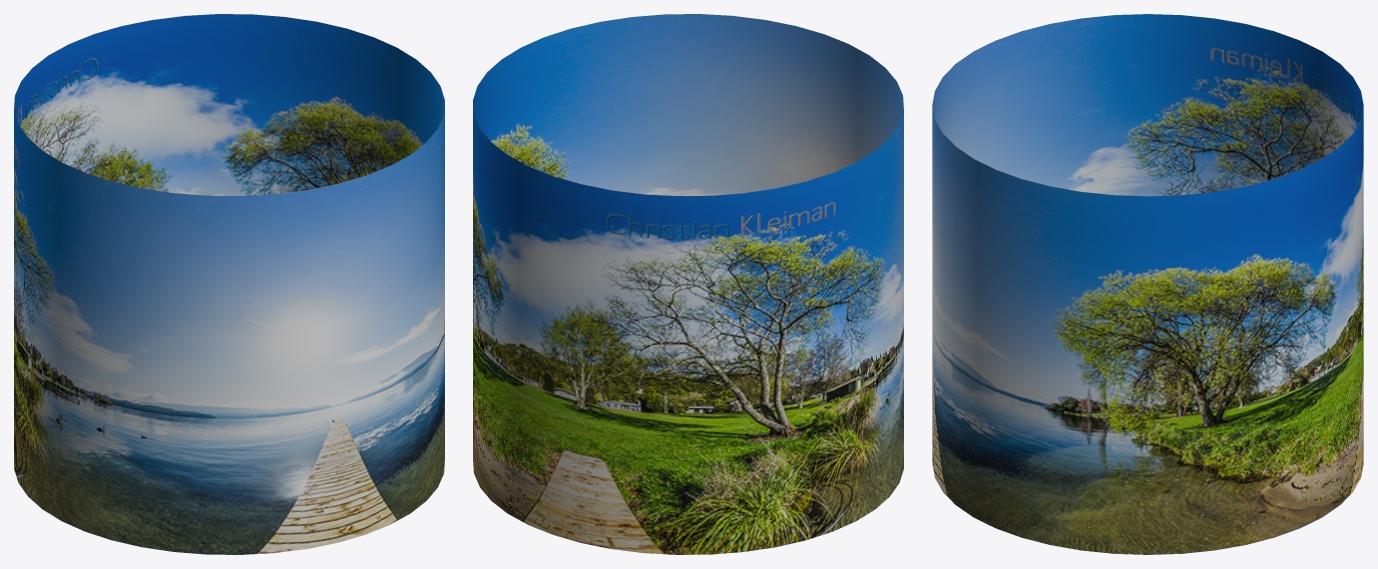
The model's file is Cilindro.fbx.
3 renders of one model, left to right at view 1: azimuth 30°, elevation 25°; view 2: azimuth 150°, elevation 25°; view 3: azimuth 270°, elevation 25°, orthographic.
Parts seen in each view (by area): view 1: Cylinder001; view 2: Cylinder001; view 3: Cylinder001.
Boxes of the visible parts, x1=… form: Cylinder001: x1=14, y1=14, x2=444, y2=554; Cylinder001: x1=473, y1=14, x2=903, y2=554; Cylinder001: x1=932, y1=14, x2=1363, y2=554.
Bounding box in the file's own units: 118 × 118 × 108.
Materials: 1 (1 with a texture image).
